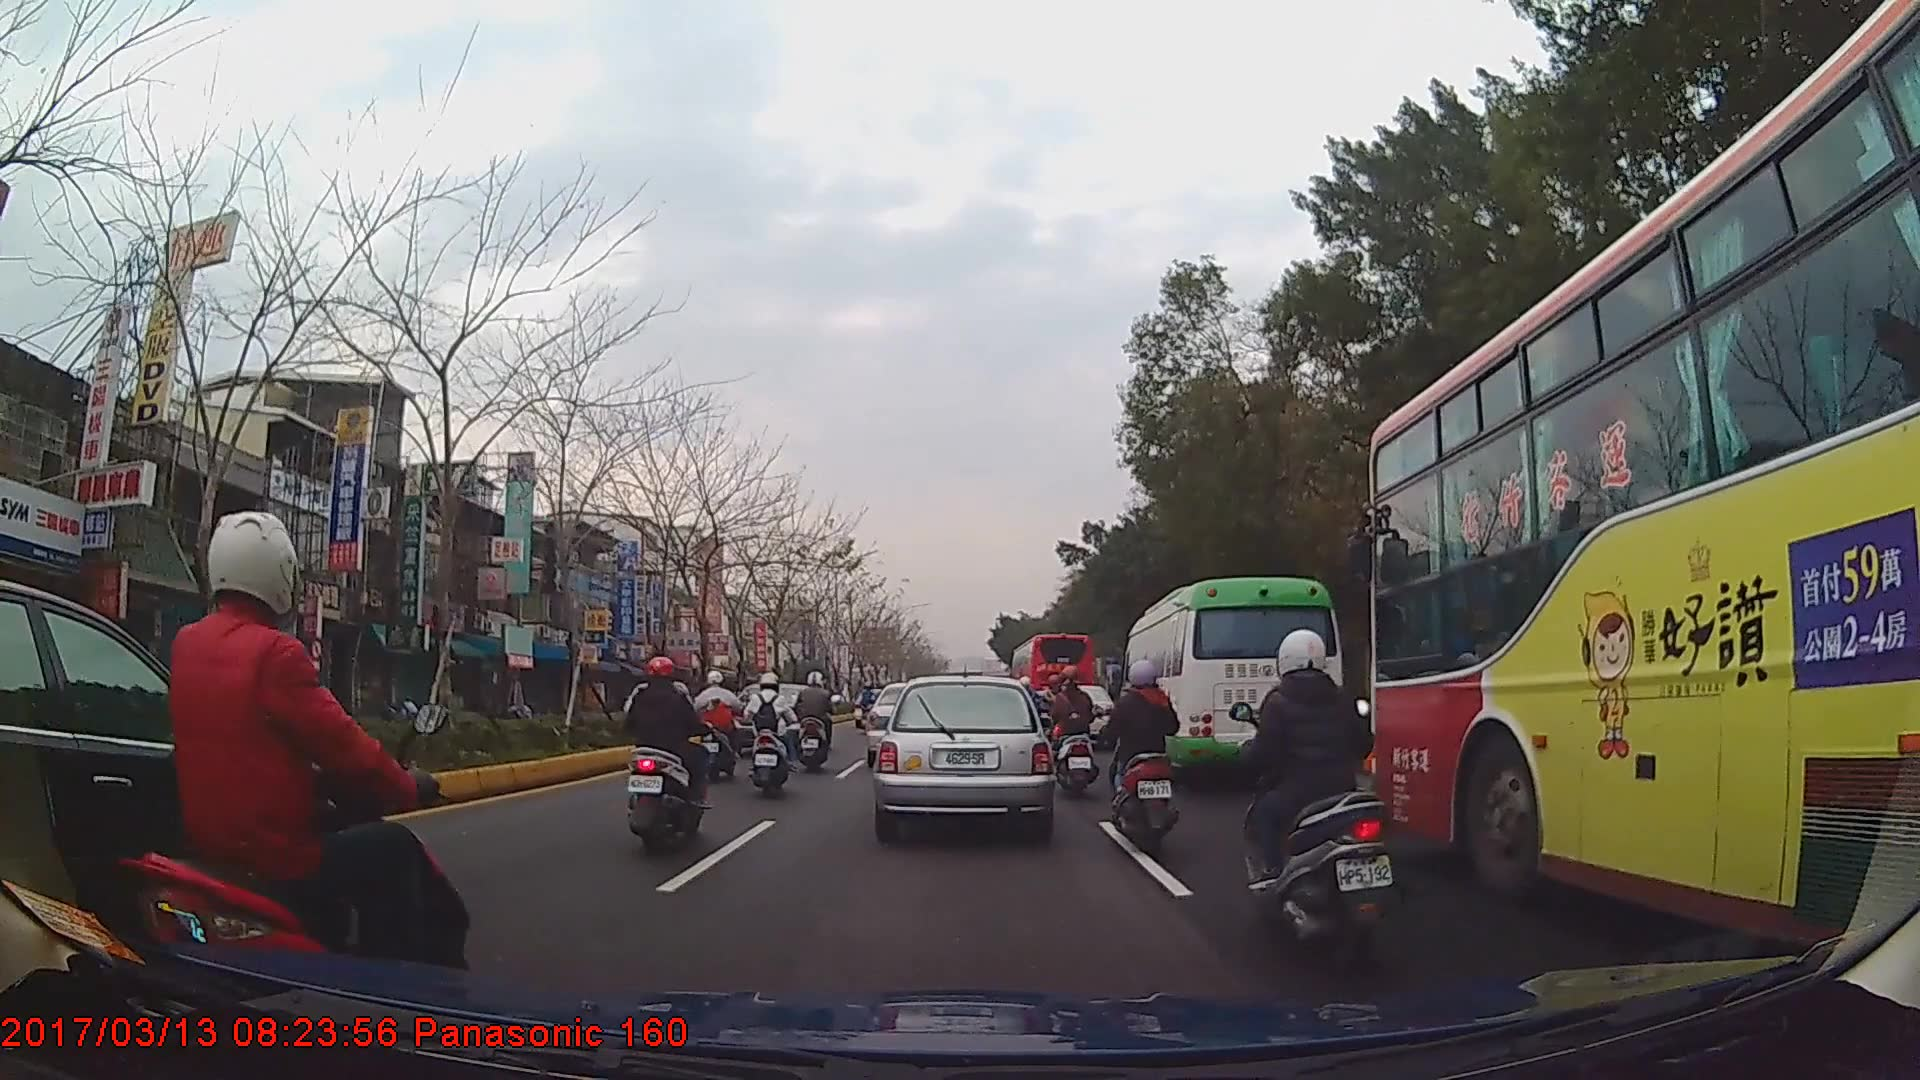rider: (111, 510, 466, 1030), (1238, 627, 1400, 969), (1106, 658, 1191, 862), (622, 656, 709, 853), (746, 673, 799, 797), (694, 670, 746, 784), (1048, 663, 1096, 790), (797, 672, 839, 771), (858, 682, 880, 721)
vehicle: (1367, 0, 1920, 1002), (0, 580, 368, 965), (1119, 575, 1346, 788), (876, 672, 1050, 837), (1012, 629, 1098, 732)
